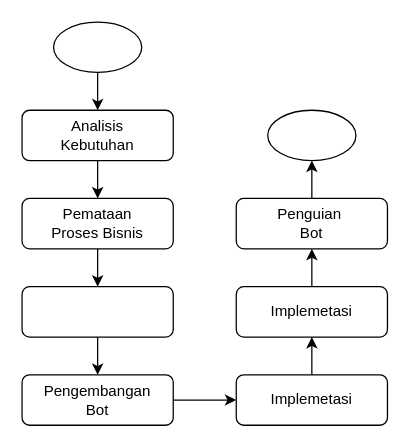
This 410x447 diagram has some shape labels left out. Here are the shapes that lost their labels. From the top down, the centre of each, then its label:
[97,46]: Mulai
[311,135]: Selesai
[97,311]: Alur Percakapan
